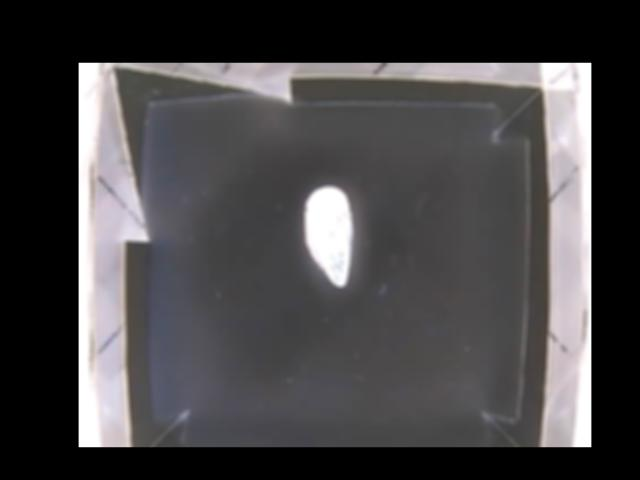Shell: (303, 186, 351, 287)
